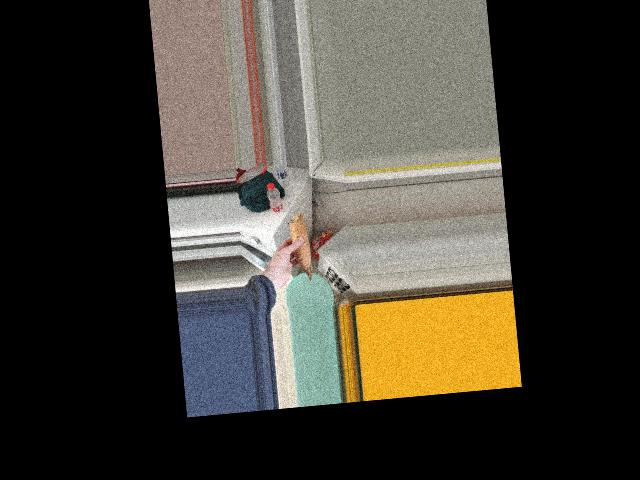sweet_potato: (288, 214, 318, 281)
